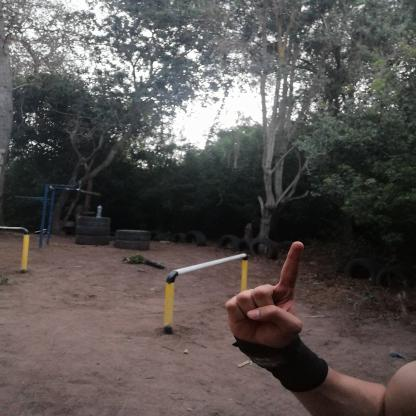BAA: (212, 231, 320, 359)
